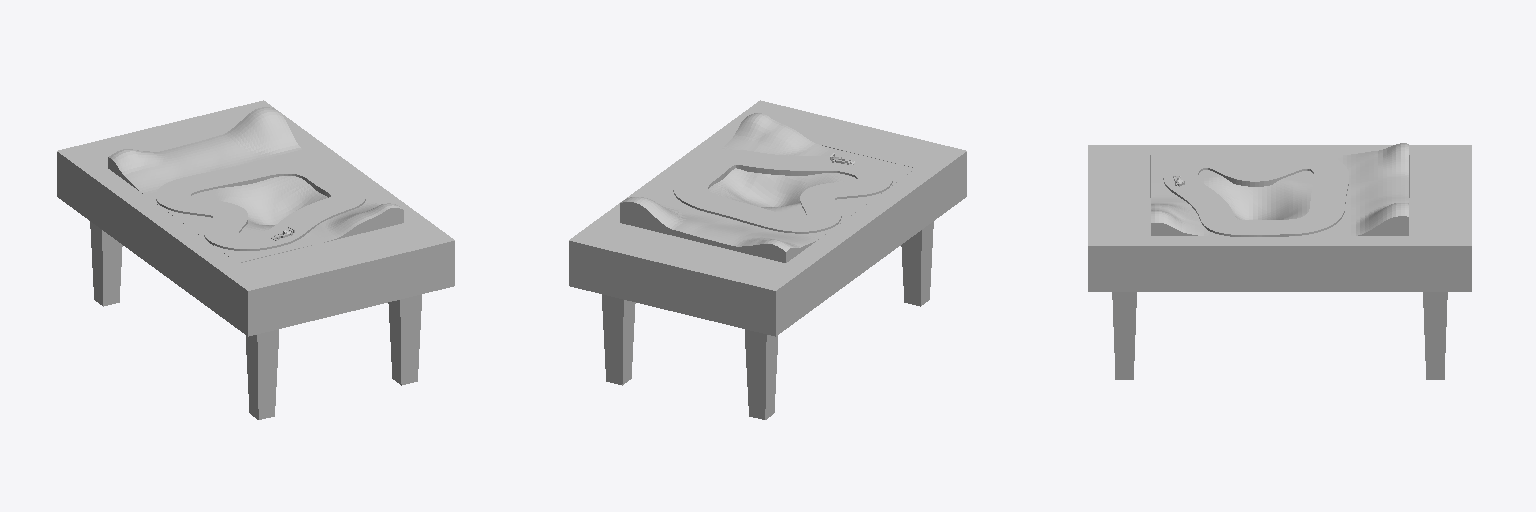
The model's file is NewestTisch54.obj.
3 renders of one model, left to right at view 1: azimuth 30°, elevation 25°; view 2: azimuth 150°, elevation 25°; view 3: azimuth 270°, elevation 25°, orthographic.
Visible parts, largest first — view 1: Tischplatte_wood_table_001, Landschaft_aerial_grass_rock, off, Bein1_wood_table_001, Bein4_wood_table_001.003, Bein3_wood_table_001.002; view 2: Tischplatte_wood_table_001, Landschaft_aerial_grass_rock, off, Bein2_wood_table_001.001, Bein3_wood_table_001.002, Bein4_wood_table_001.003; view 3: Tischplatte_wood_table_001, Landschaft_aerial_grass_rock, off, Bein1_wood_table_001, Bein2_wood_table_001.001.
Part boxes in pixels (x1,y1,x2,y2): Tischplatte_wood_table_001: (57, 100, 454, 336); Landschaft_aerial_grass_rock: (108, 107, 403, 262); off: (156, 159, 365, 250); Bein1_wood_table_001: (388, 294, 421, 385); Bein4_wood_table_001.003: (246, 329, 278, 419); Bein3_wood_table_001.002: (90, 221, 122, 306); Tischplatte_wood_table_001: (569, 100, 966, 336); Landschaft_aerial_grass_rock: (620, 113, 915, 262); off: (673, 150, 892, 233); Bein2_wood_table_001.001: (602, 294, 635, 385); Bein3_wood_table_001.002: (745, 329, 777, 419); Bein4_wood_table_001.003: (901, 221, 933, 306); Tischplatte_wood_table_001: (1088, 145, 1471, 291); Landschaft_aerial_grass_rock: (1151, 143, 1408, 235); off: (1163, 153, 1348, 236); Bein1_wood_table_001: (1112, 292, 1136, 379); Bein2_wood_table_001.001: (1423, 292, 1447, 379).
Bounding box in the file's own units: 5 × 3.91 × 8.